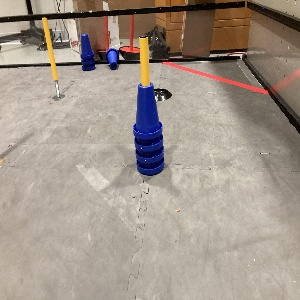Blue_4: (129, 81, 166, 176)
